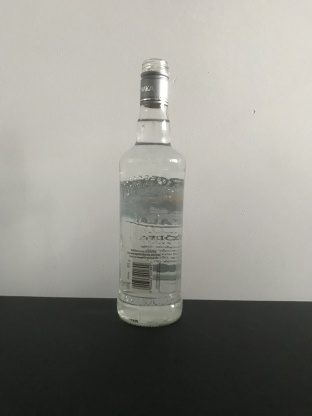nakretka: (137, 55, 171, 109)
